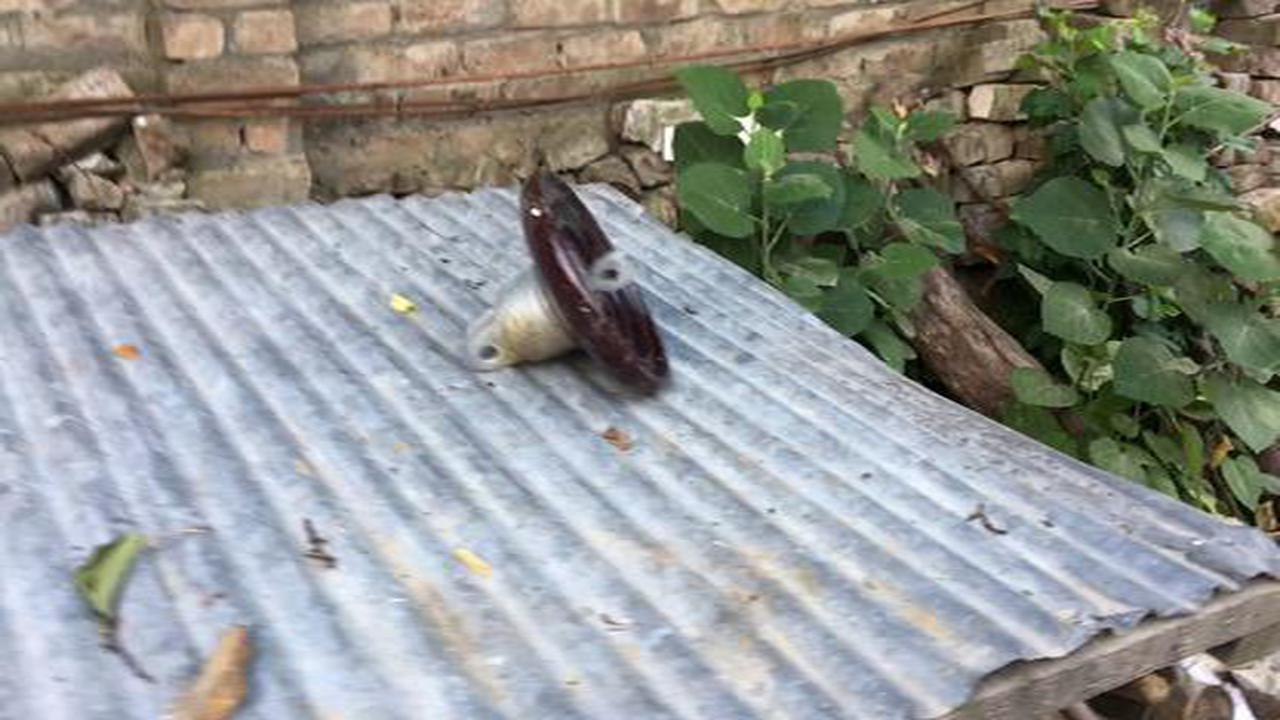insulator_disc: (459, 165, 673, 408)
